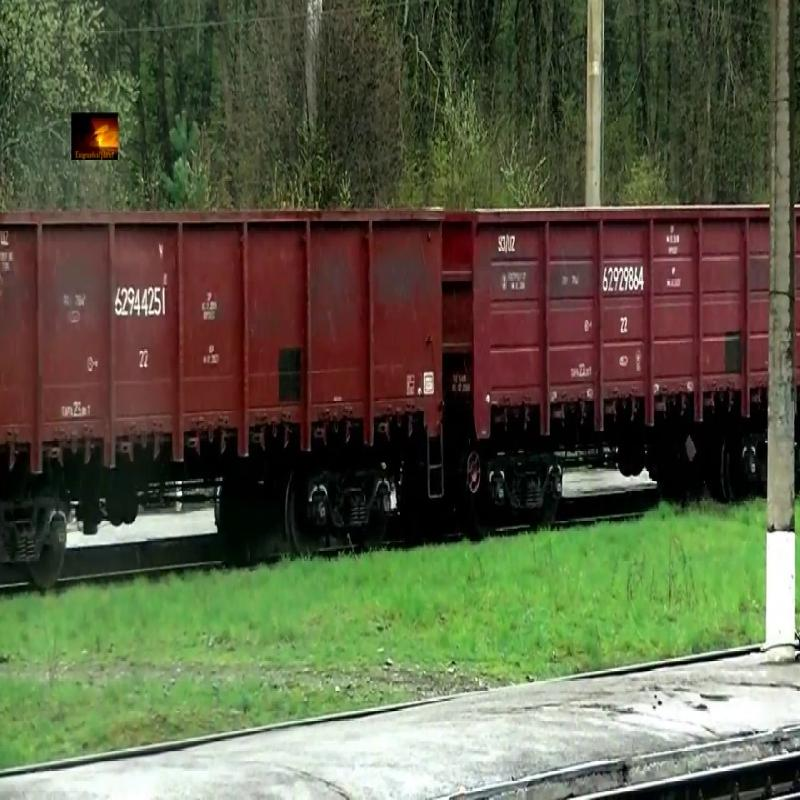train: (1, 205, 446, 469), (445, 207, 772, 442)
